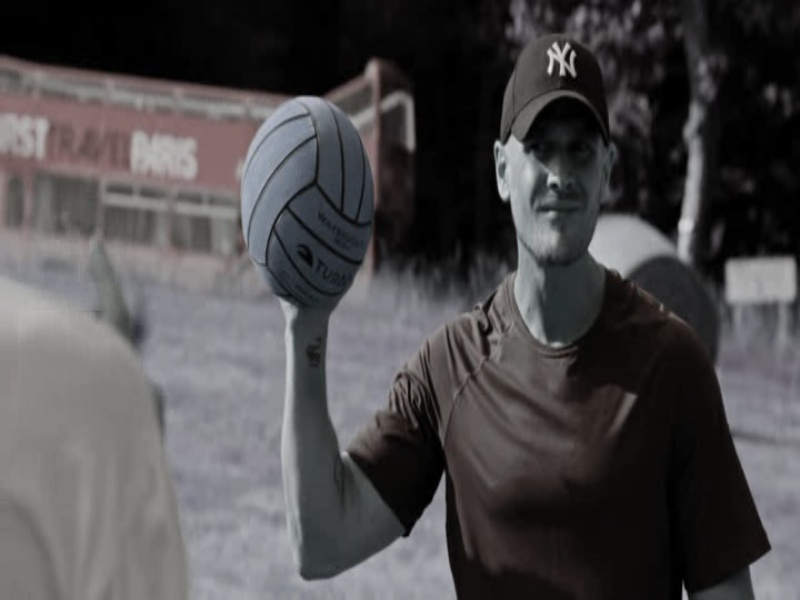TsisyArotava: (483, 83, 624, 285)
